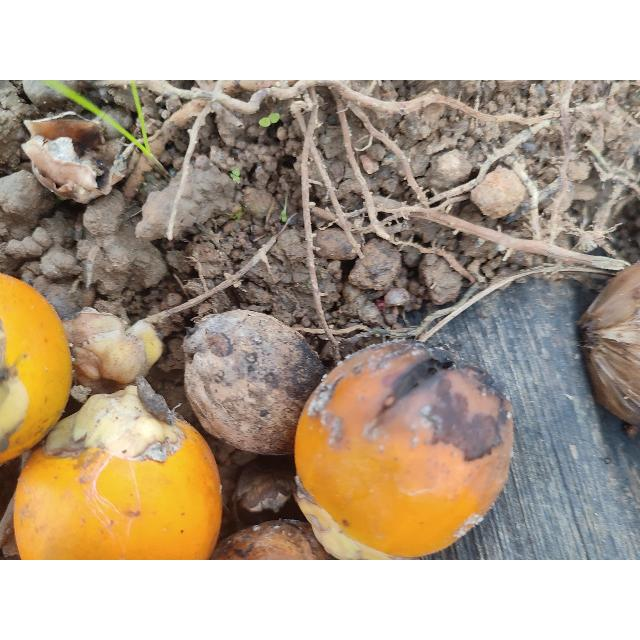damaged: (294, 344, 516, 560), (183, 310, 328, 460), (578, 262, 640, 440)
